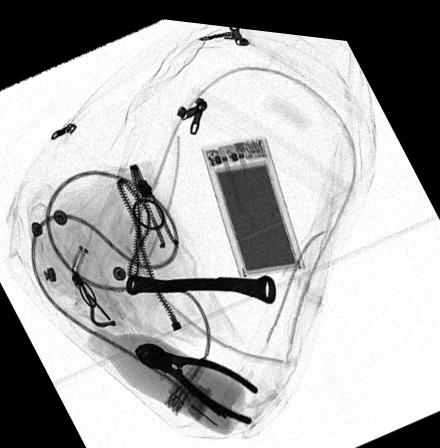Pliers: (134, 338, 259, 419)
Powerbank: (201, 130, 307, 273)
Wrench: (125, 268, 276, 297)
